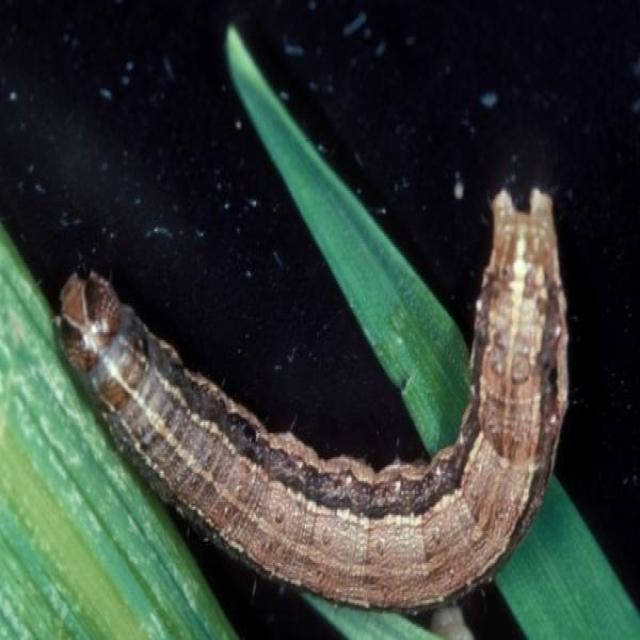army worm: (54, 177, 586, 614)
